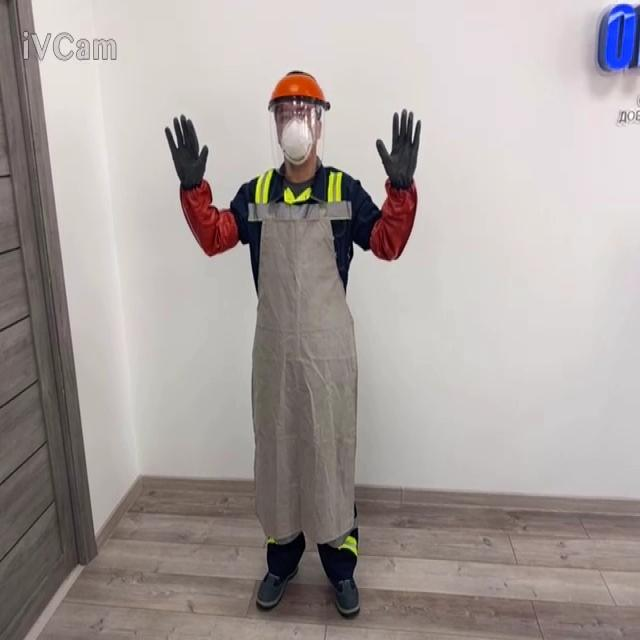Gloves: (375, 108, 421, 189), (164, 113, 208, 191)
Mask: (276, 107, 317, 165)
Protective apron: (247, 185, 358, 548)
Safety Shoes: (255, 564, 298, 608), (331, 574, 360, 614)
Sleeve: (179, 177, 239, 256), (369, 176, 417, 261)
